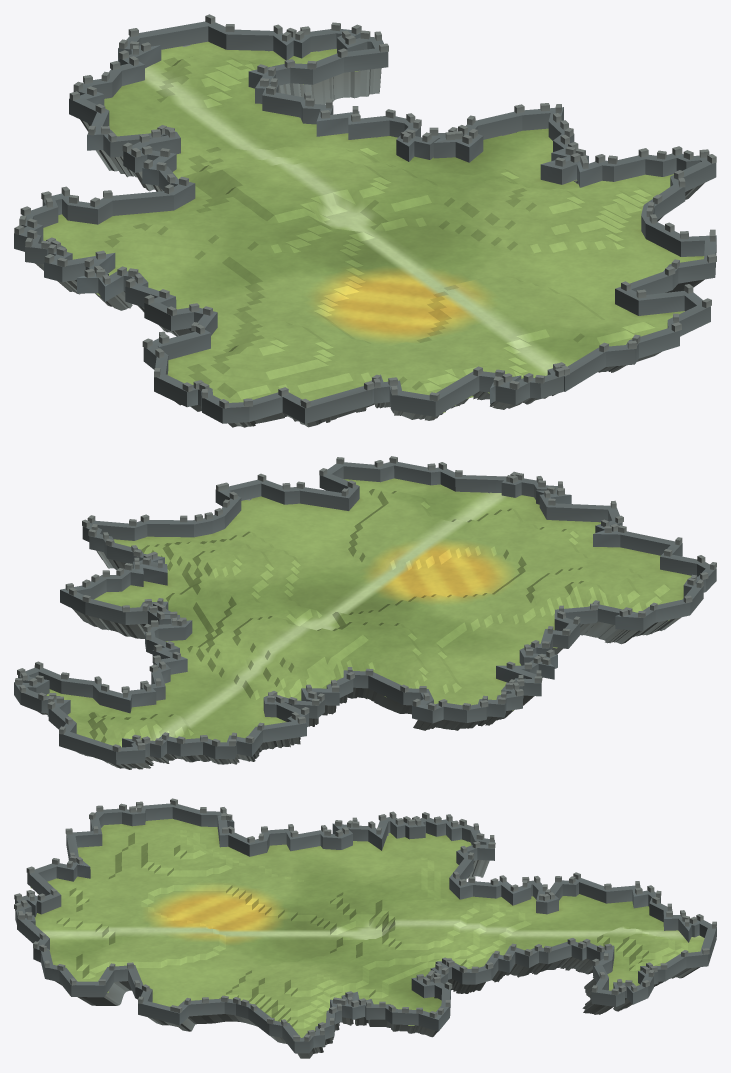
The picture shows the model from 3 angles, top to bottom: view 1: azimuth 30°, elevation 25°; view 2: azimuth 150°, elevation 25°; view 3: azimuth 270°, elevation 25°; orthographic projection. The views are drawn at different scales.
Parts seen in each view (by area): view 1: ground_4d227097; view 2: ground_4d227097; view 3: ground_4d227097.
Boxes of the visible parts, left/top/right/bottom form: ground_4d227097: left=14, top=14, right=716, bottom=427; ground_4d227097: left=14, top=456, right=716, bottom=769; ground_4d227097: left=14, top=798, right=716, bottom=1058.
Size of the model in its own units: 131 by 7.71 by 162.
Materials: 2 (1 with a texture image).
